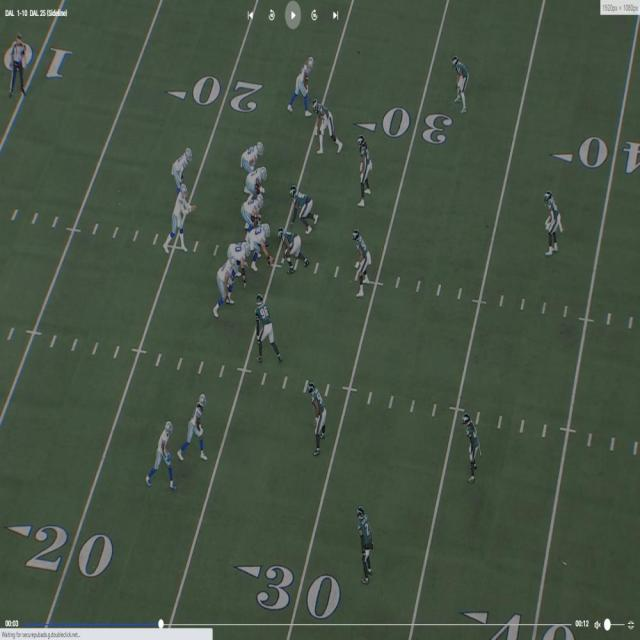center: (253, 220, 276, 266)
db: (462, 414, 480, 483), (357, 506, 371, 580), (543, 190, 558, 257), (452, 56, 468, 113)
lb: (314, 98, 338, 152), (356, 134, 370, 208), (352, 230, 368, 294), (310, 382, 324, 452)
qb: (175, 183, 191, 246)
skill: (150, 419, 173, 481), (293, 53, 316, 110), (186, 392, 204, 462), (238, 142, 266, 170), (175, 145, 193, 184)
